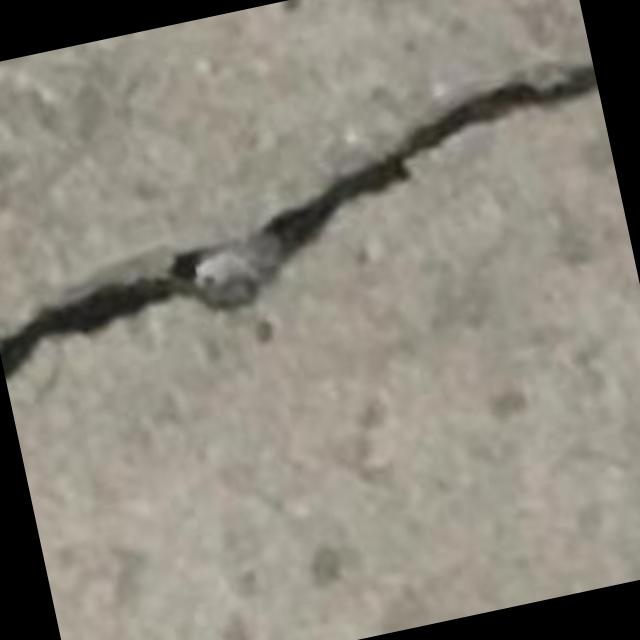crack: (0, 64, 597, 378)
